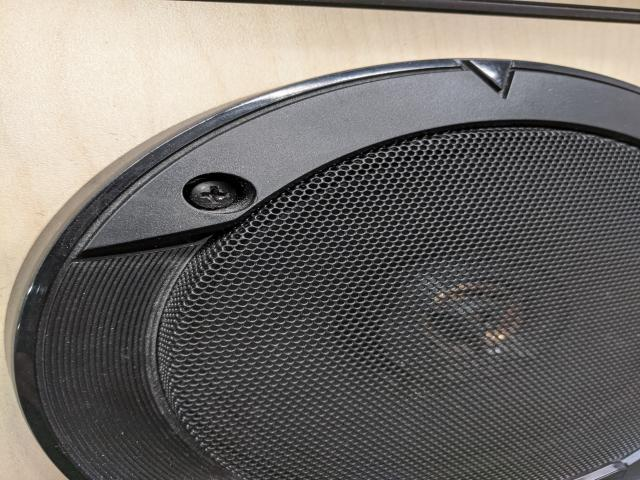CRS: (183, 176, 239, 211)
